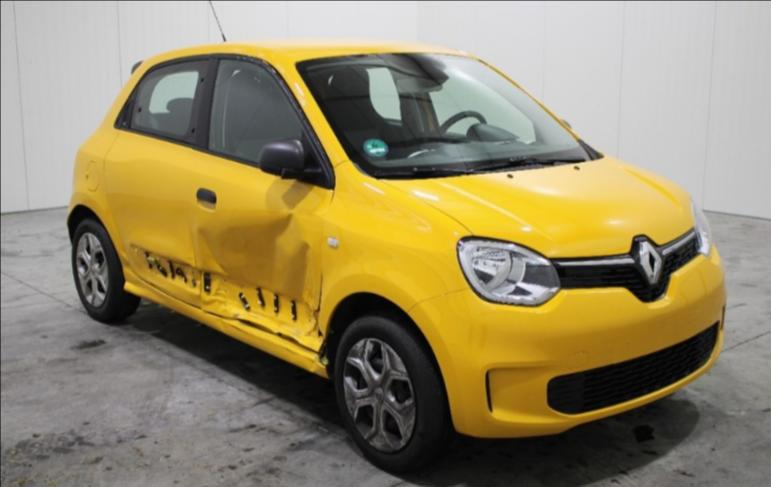Broken part: (311, 297, 328, 367)
Dent: (181, 205, 329, 379)
Missing part: (131, 243, 322, 340)
Scratch: (215, 309, 319, 350), (298, 248, 321, 312)
